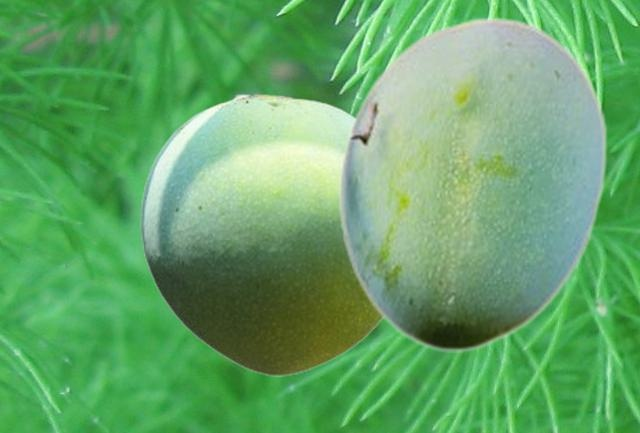green_mango: (337, 16, 607, 351), (140, 92, 382, 375)
